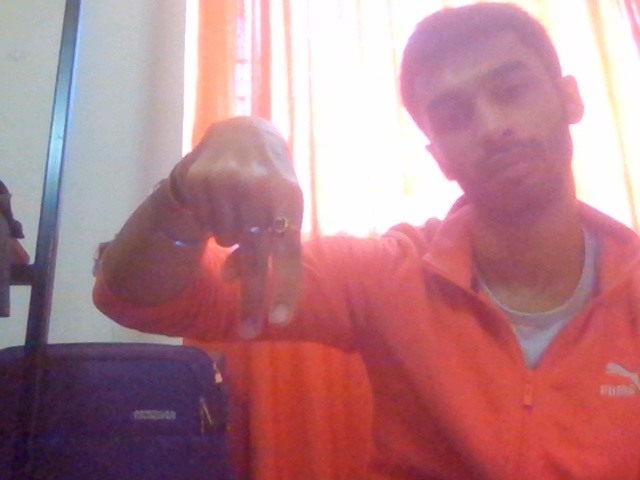P: (134, 90, 354, 371)
